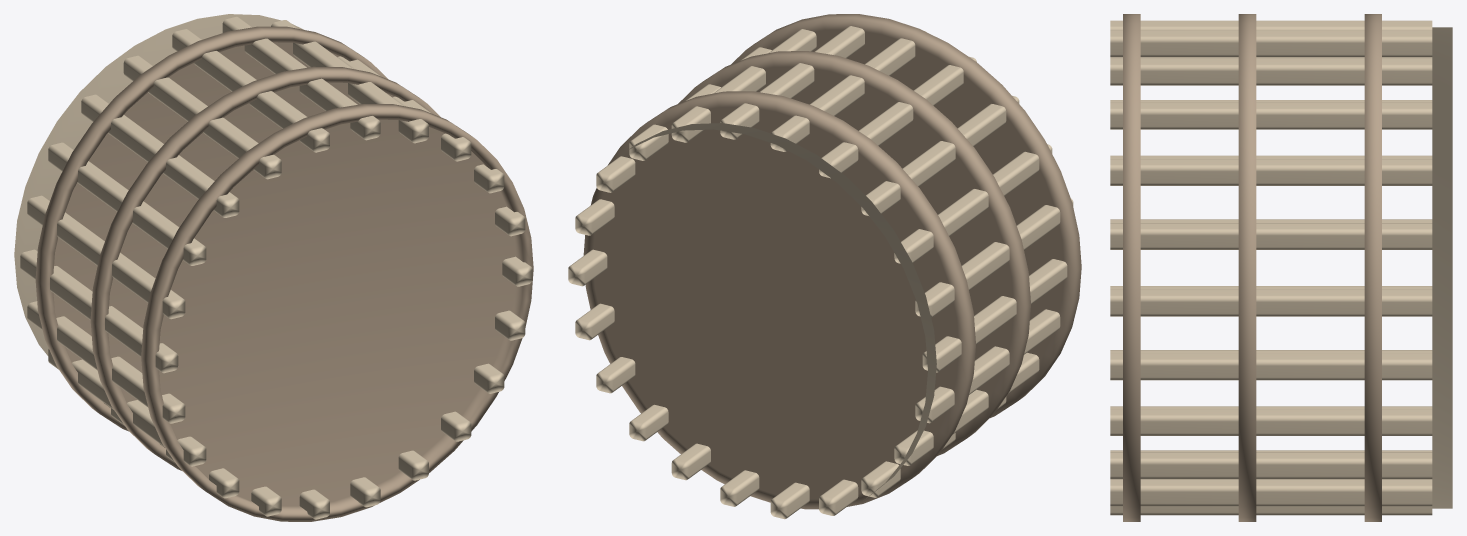
File: basket.glb
3 views of the same model, side by side, from view 1: azimuth 30°, elevation 25°; view 2: azimuth 150°, elevation 25°; view 3: azimuth 270°, elevation 25° (orthographic). The views are drawn at different scales.
Visible parts, largest first — view 1: band_2, band_0, band_1, basket, stave_8, stave_9, stave_7, stave_10, stave_6, stave_11, stave_5, stave_12 (+14 smaller); view 2: band_0, band_1, band_2, basket, stave_8, stave_9, stave_7, stave_10, stave_6, stave_11, stave_5, stave_12 (+14 smaller); view 3: basket, band_1, band_0, band_2, stave_1, stave_4, stave_5, stave_20, stave_0, stave_6, stave_19, stave_2 (+12 smaller).
Boxes of the visible parts, box(x1,y1,x2,y2) form: band_2: box(141, 104, 533, 521); band_0: box(35, 26, 388, 431); band_1: box(90, 66, 440, 470); basket: box(14, 14, 303, 355); stave_8: box(81, 94, 239, 217); stave_9: box(48, 142, 206, 265); stave_7: box(123, 55, 281, 179); stave_10: box(27, 195, 185, 319); stave_6: box(172, 29, 329, 152); stave_11: box(20, 249, 178, 373); stave_5: box(222, 16, 380, 140); stave_12: box(27, 301, 185, 423); band_0: box(583, 91, 975, 509); band_1: box(678, 51, 1030, 455); band_2: box(731, 14, 1081, 417); basket: box(629, 123, 936, 498); stave_8: box(861, 95, 1019, 215); stave_9: box(894, 144, 1052, 263); stave_7: box(819, 56, 976, 178); stave_10: box(915, 198, 1073, 317); stave_6: box(770, 31, 925, 151); stave_11: box(922, 259, 1067, 372); stave_5: box(720, 26, 864, 139); stave_12: box(915, 309, 1060, 423); basket: box(1432, 27, 1452, 508); band_1: box(1238, 14, 1256, 521); band_0: box(1364, 14, 1381, 521); band_2: box(1123, 14, 1140, 521); stave_1: box(1110, 289, 1432, 316); stave_4: box(1110, 102, 1432, 129); stave_5: box(1110, 58, 1432, 85); stave_20: box(1110, 452, 1432, 479); stave_0: box(1110, 353, 1432, 380); stave_6: box(1110, 30, 1432, 57); stave_19: box(1110, 479, 1432, 506); stave_2: box(1110, 223, 1432, 249).
Size of the model in its own units: 0.202 by 0.202 by 0.136.
